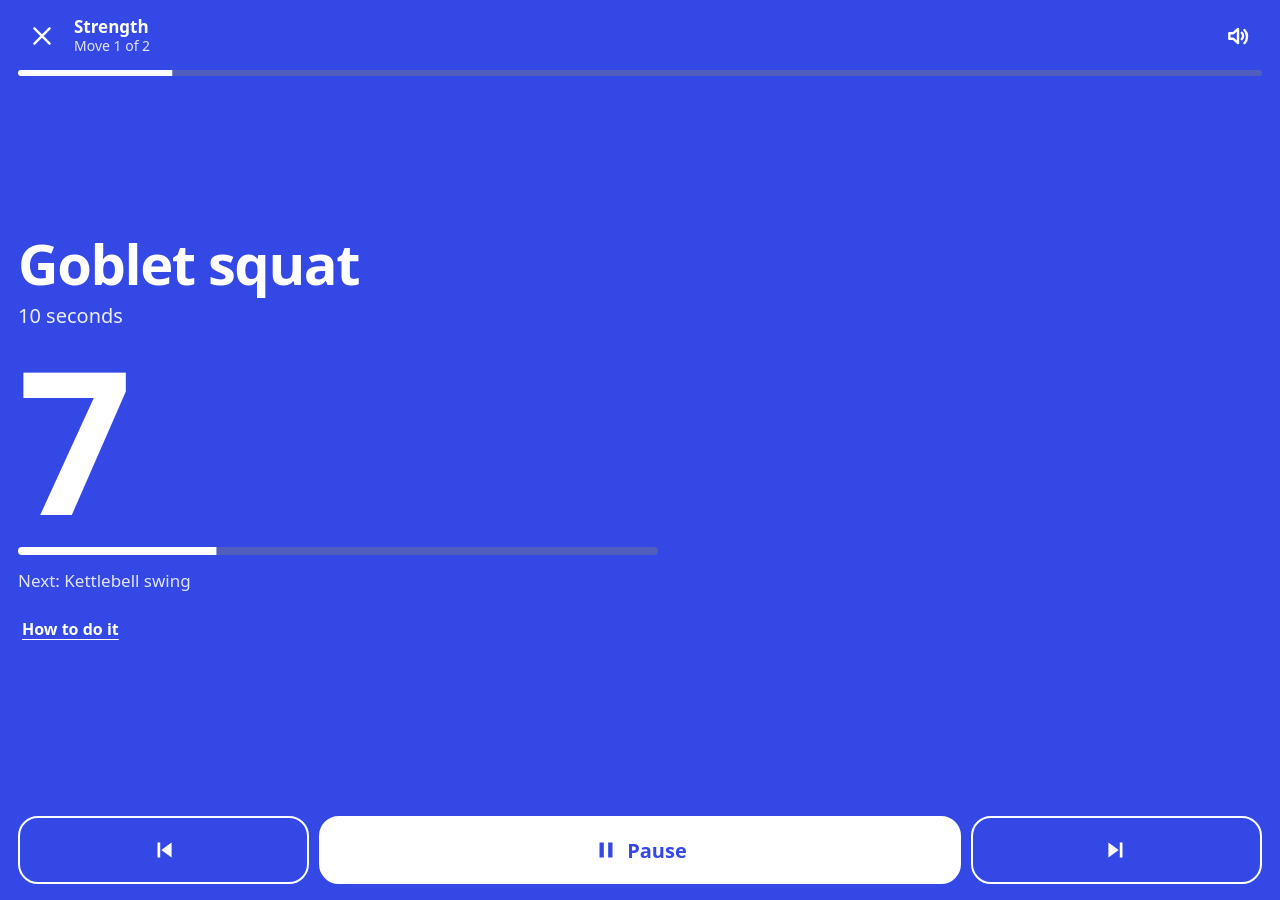
Test: the player › carries on when resumed
Click the button "Pause": (640, 850) [319,816,960,884]
Wait 5000 ms
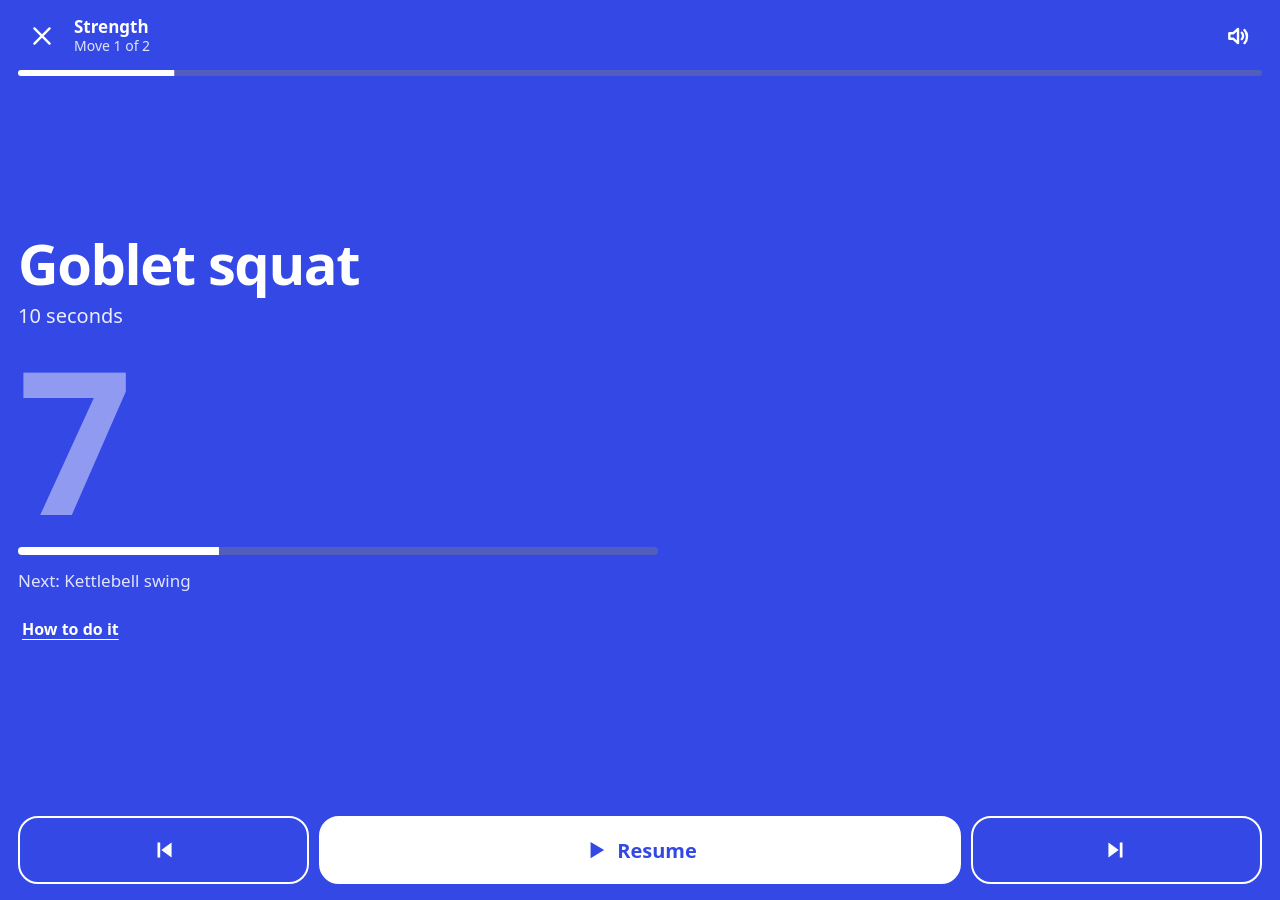
Click the button "Resume": (640, 850) [319,816,960,884]
Wait 2500 ms
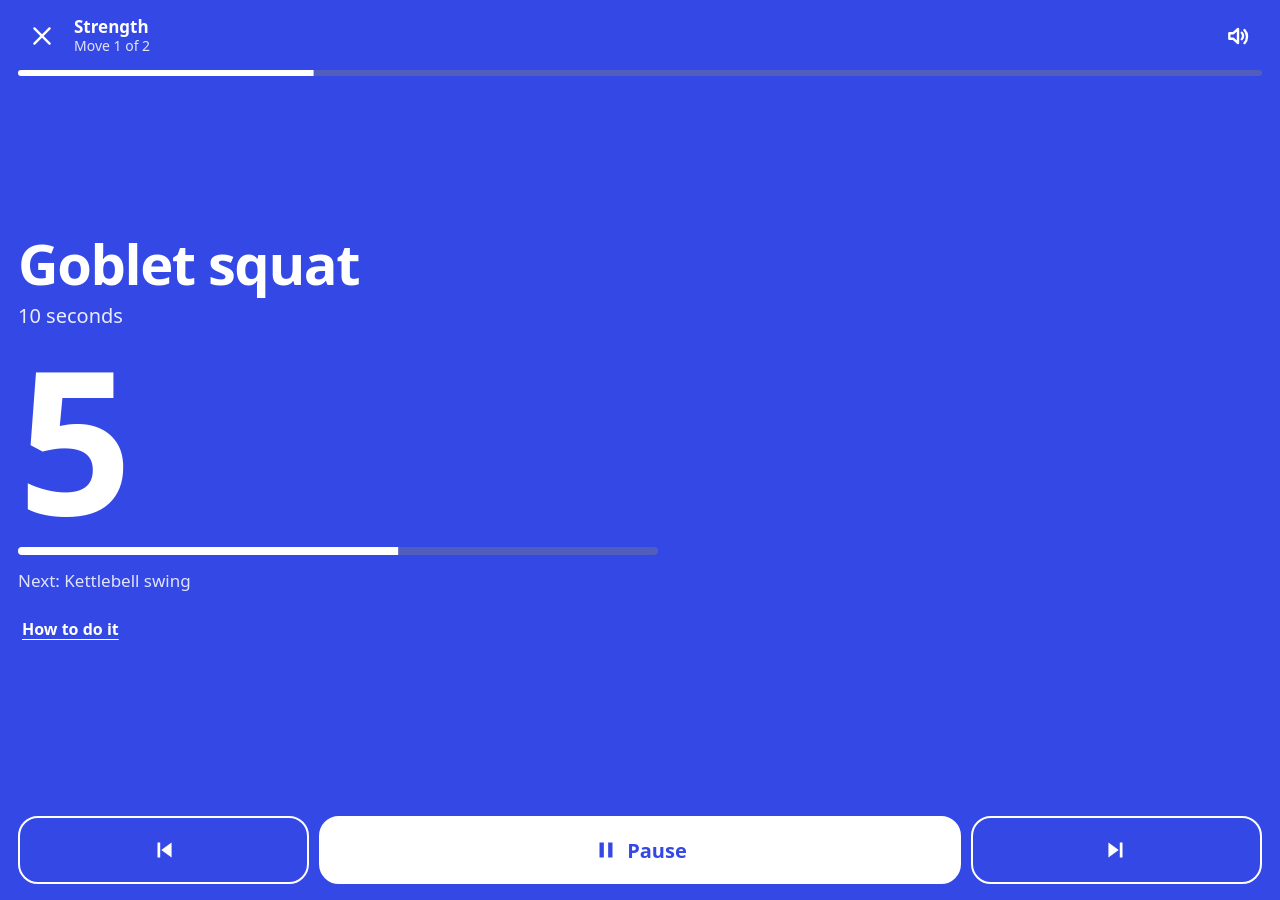
Check: the text "5" is shown, box [18,300,122,574]
